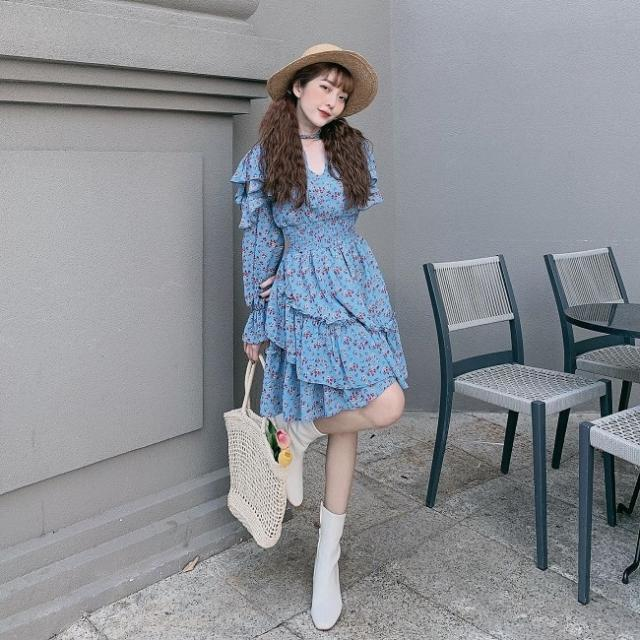clothes: (236, 121, 408, 419)
